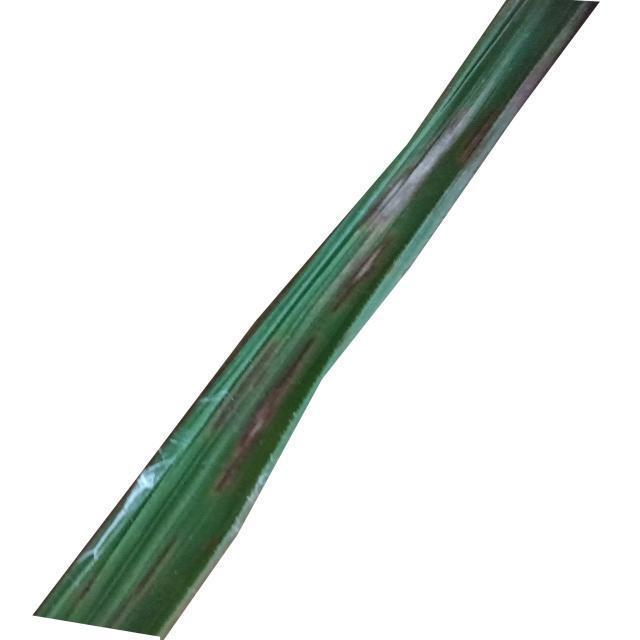Bacterial_Leaf_Blight: (215, 78, 514, 466)
